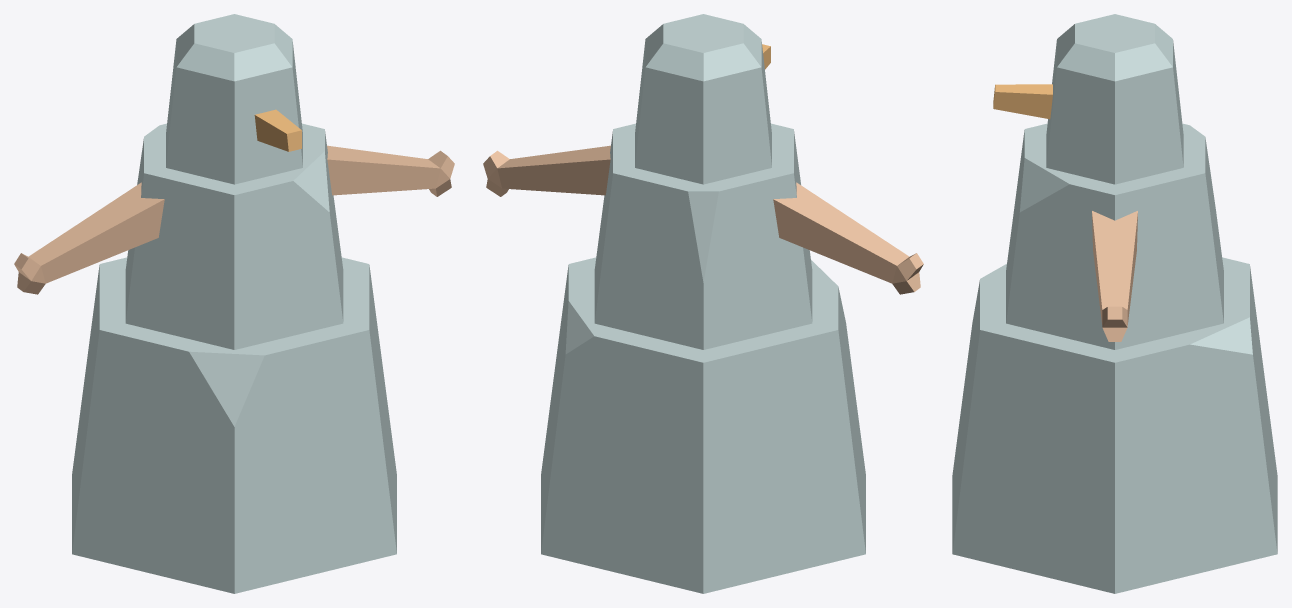
Rendered from snowman.glb.
The picture shows the model from 3 angles, left to right: view 1: azimuth 30°, elevation 25°; view 2: azimuth 150°, elevation 25°; view 3: azimuth 270°, elevation 25°; orthographic projection.
Visible parts, largest first — view 1: snowman(Clone); view 2: snowman(Clone); view 3: snowman(Clone).
Boxes of the visible parts, bbox=[...] form: snowman(Clone): bbox=[14, 14, 454, 593]; snowman(Clone): bbox=[483, 14, 923, 593]; snowman(Clone): bbox=[952, 14, 1277, 593].
Size of the model in its own units: 0.6935 by 0.7356 by 0.4503.
